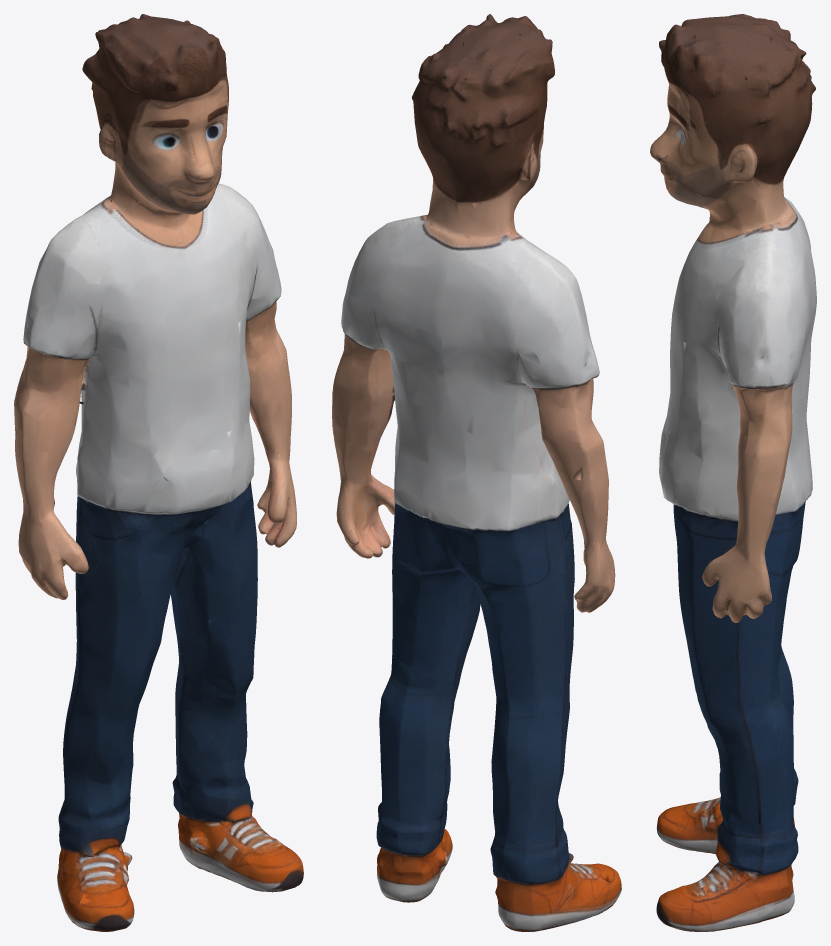
Rendered from Avatar2.glb.
3 views of the same model, side by side, from view 1: azimuth 30°, elevation 25°; view 2: azimuth 150°, elevation 25°; view 3: azimuth 270°, elevation 25° (orthographic).
Size of the model in its own units: 0.6483 by 2 by 0.3546.
Materials: 1 (1 with a texture image).
